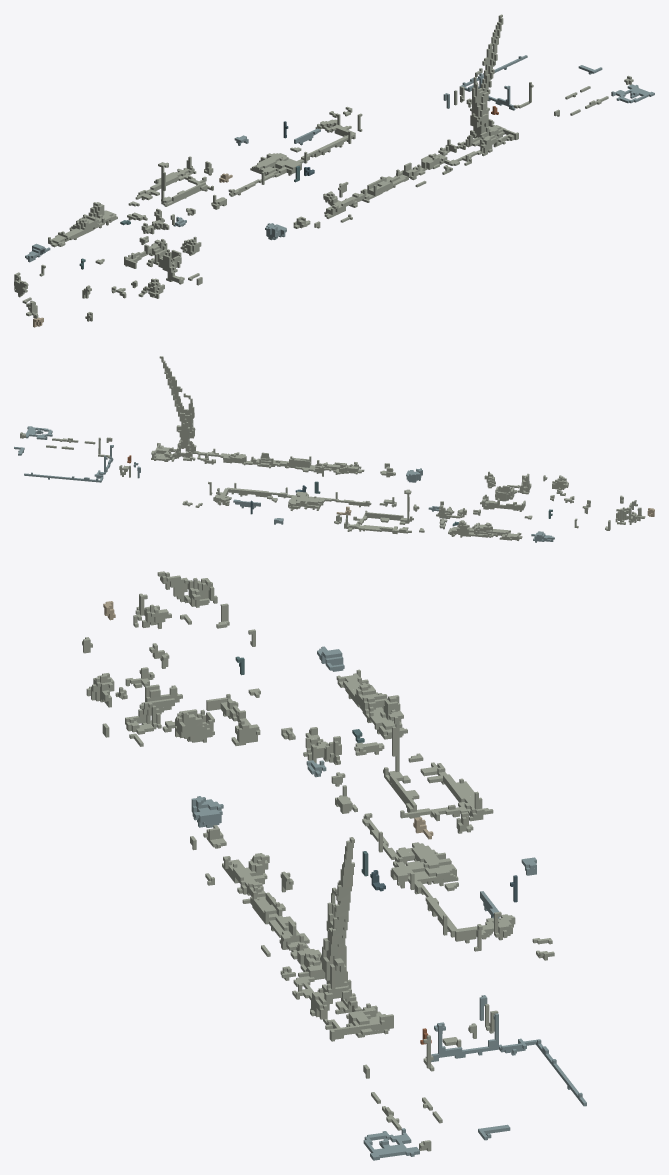
3 renders of one model, top to bottom at view 1: azimuth 30°, elevation 25°; view 2: azimuth 150°, elevation 25°; view 3: azimuth 270°, elevation 25°, orthographic. The views are drawn at different scales.
Parts seen in each view (by area): view 1: measured-industrial; view 2: measured-industrial; view 3: measured-industrial.
Boxes of the visible parts, <box> form: measured-industrial: <box>14,14,654,327</box>; measured-industrial: <box>14,356,654,542</box>; measured-industrial: <box>82,571,586,1160</box>.
Size of the model in its own units: 369 by 63.13 by 144.
